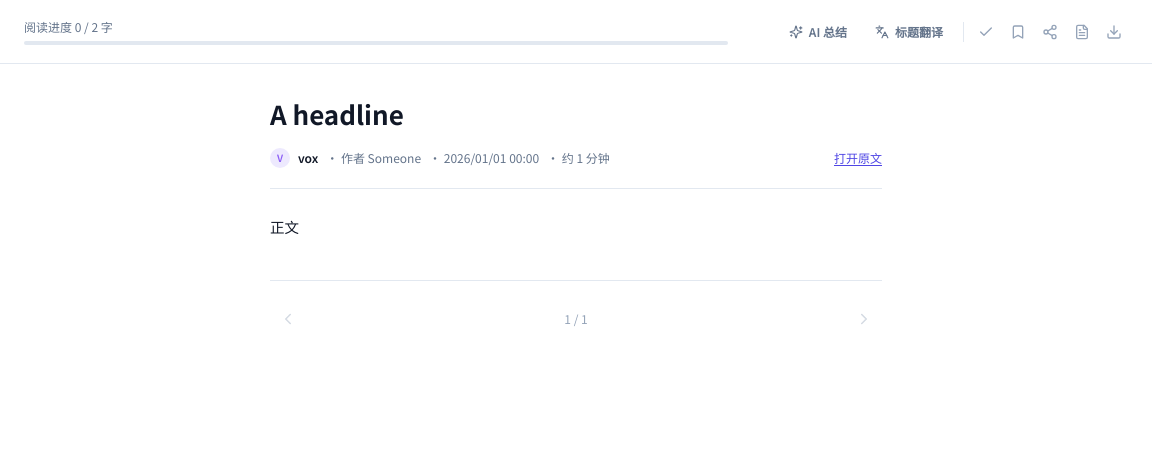
it: ArticlePane 的 AI 按钮 › 有启用的供应商时：点击走 SSE 端点，结果落到正文上方
The width and height of the screenshot is (1152, 454).
Click the button "AI 总结" at (818, 32), box [777,16,859,48]
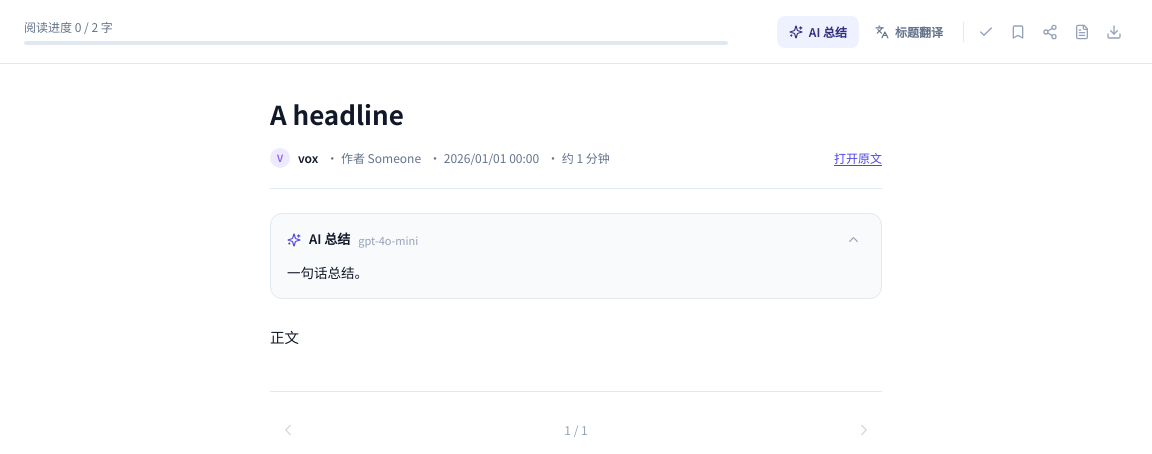
expect the text "一句话总结。" is shown: met, box [287,262,368,282]
